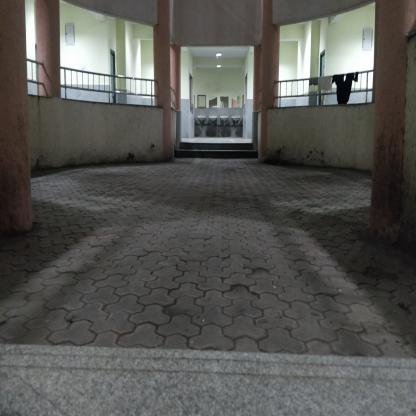stairs: (183, 142, 251, 161)
